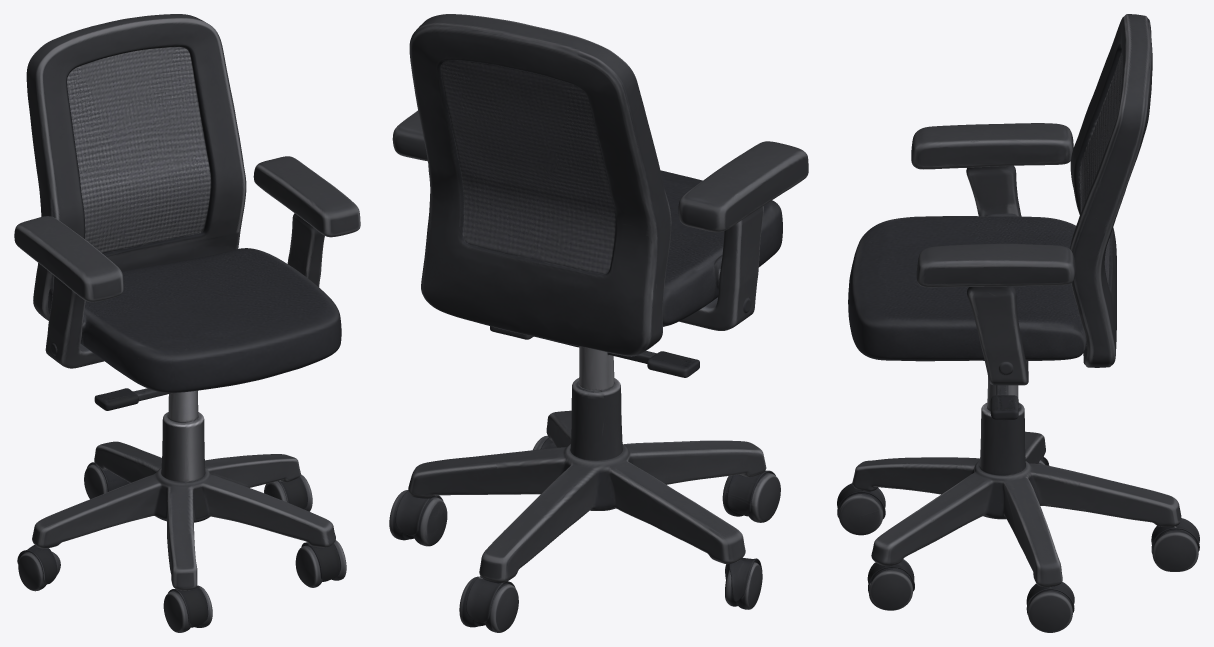
The model's file is Office_Swivel_Chair.glb.
3 views of the same model, side by side, from view 1: azimuth 30°, elevation 25°; view 2: azimuth 150°, elevation 25°; view 3: azimuth 270°, elevation 25° (orthographic). The views are drawn at different scales.
Size of the model in its own units: 1.17 by 1.9 by 1.21.
1 material, 1 textured.
